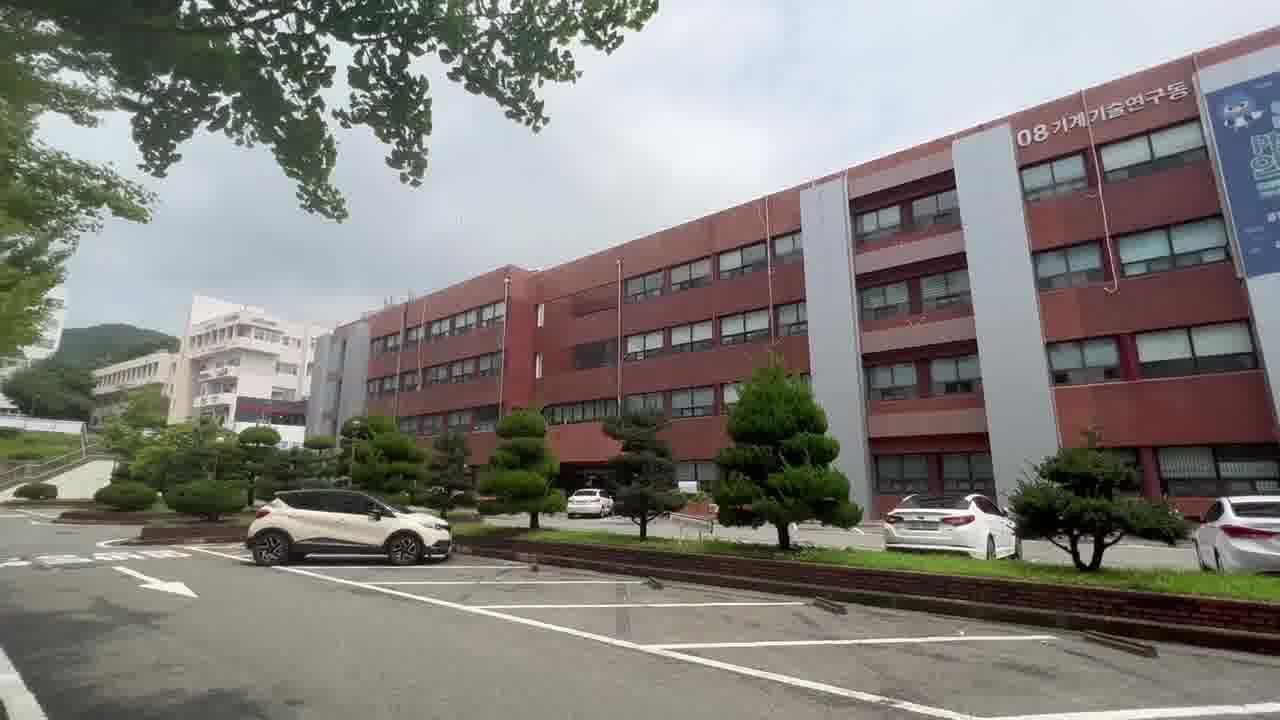building: (311, 144, 1230, 381)
